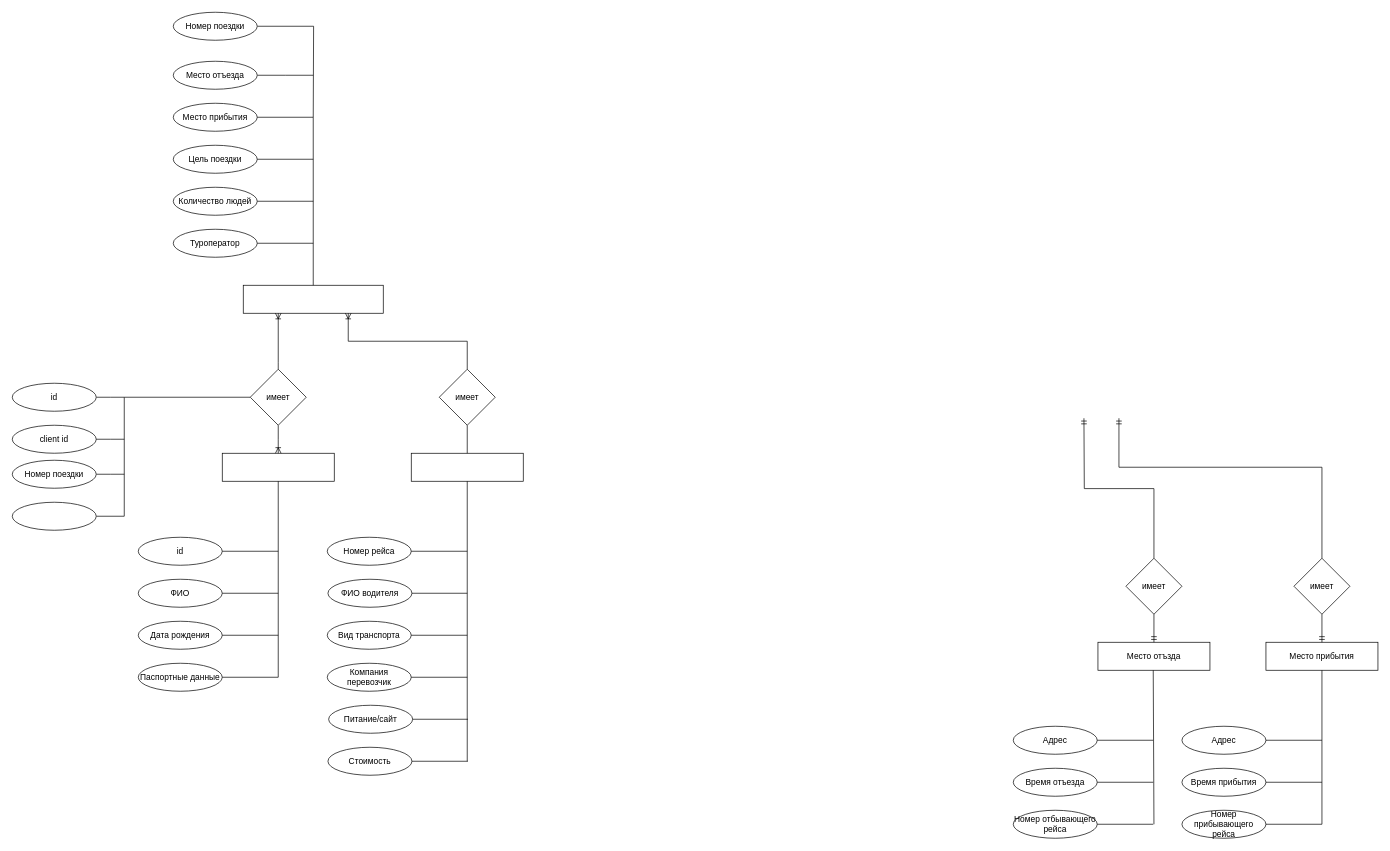
Some shapes in this 1390 by 851 pixel diagram are drawn without their labels. The centre of each missing label's shape, as x and y in pixels:
Клиент: the point at 278,467
Количество мест: the point at 54,516
Поездка: the point at 313,299
Транспорт: the point at 467,467
